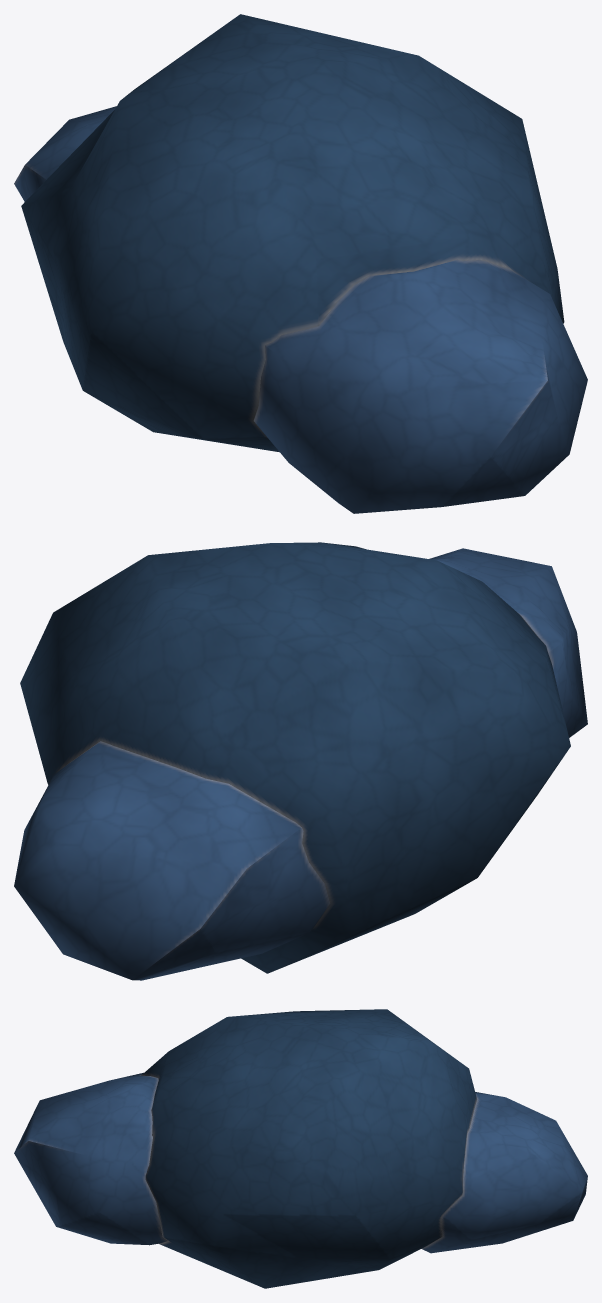
Rendered from mu_sea_rock.glb.
The picture shows the model from 3 angles, top to bottom: view 1: azimuth 30°, elevation 25°; view 2: azimuth 150°, elevation 25°; view 3: azimuth 270°, elevation 25°; orthographic projection. The views are drawn at different scales.
Visible parts, largest first — view 1: mu_sea_rock; view 2: mu_sea_rock; view 3: mu_sea_rock.
Part boxes in pixels (box(x1,y1,x2,y2)): mu_sea_rock: box(14, 14, 587, 513); mu_sea_rock: box(14, 542, 587, 980); mu_sea_rock: box(14, 1009, 587, 1288).
Bounding box in the file's own units: 3.37 × 2.31 × 5.1.
2 materials, 2 textured.
